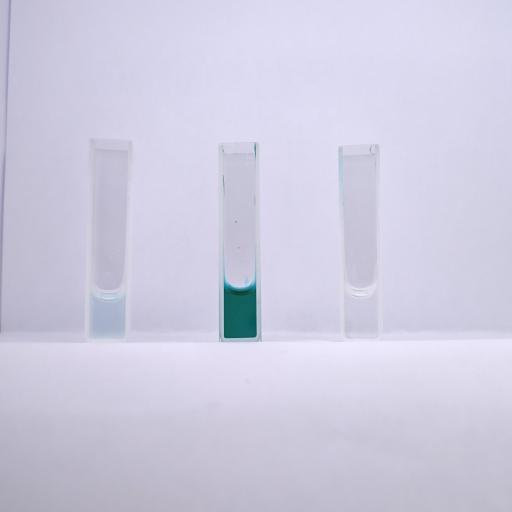cuvette: (84, 135, 134, 343), (216, 139, 264, 343), (336, 142, 384, 341)
liquid: (90, 287, 126, 339), (224, 280, 256, 338), (344, 285, 379, 337)
